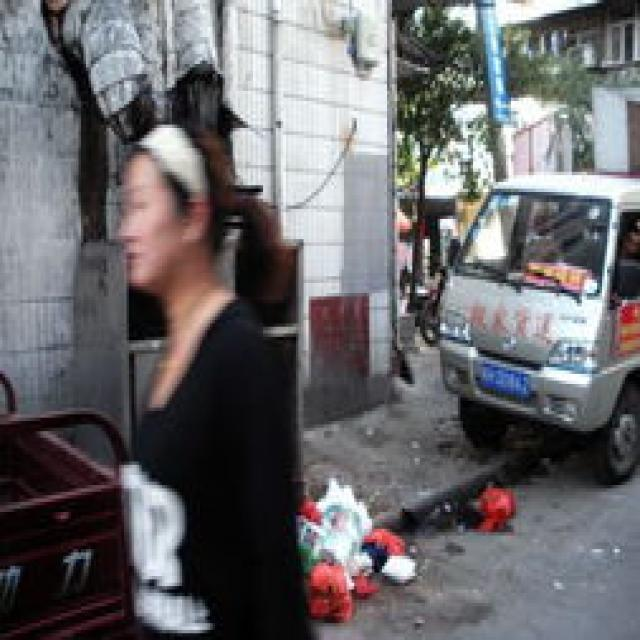garbage: (293, 472, 511, 620)
